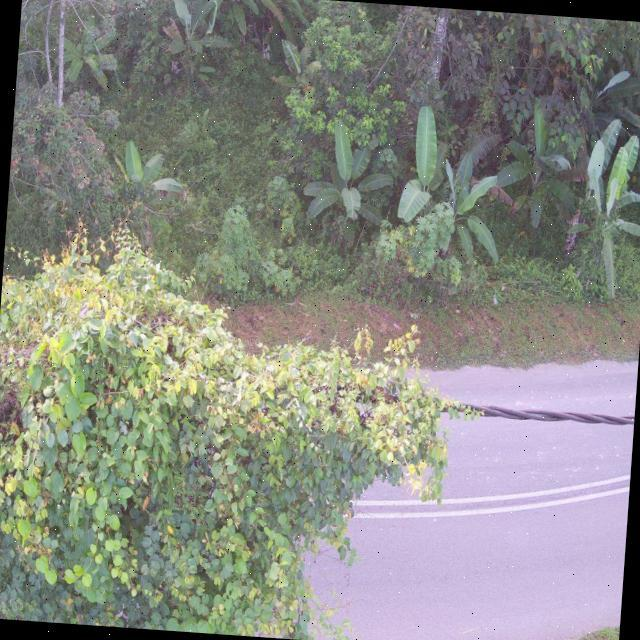critical vegetation: (0, 207, 497, 614)
